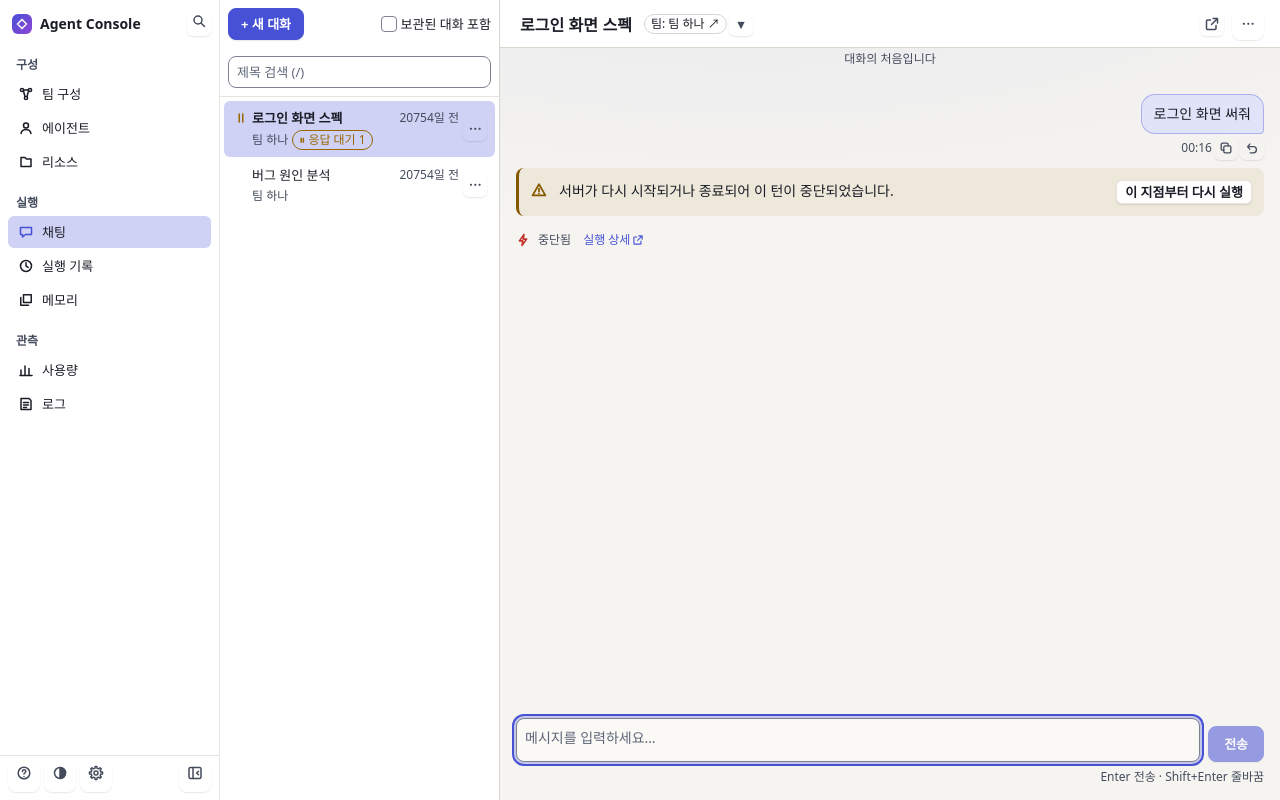
it: 끊긴 턴 이어 가기 › nodes가 비었거나 rerunnable이 없으면 빈 상태
Click the button "이 지점부터 다시 실행".
click(1184, 192)  # box top-left (1116, 180), bottom-right (1252, 204)
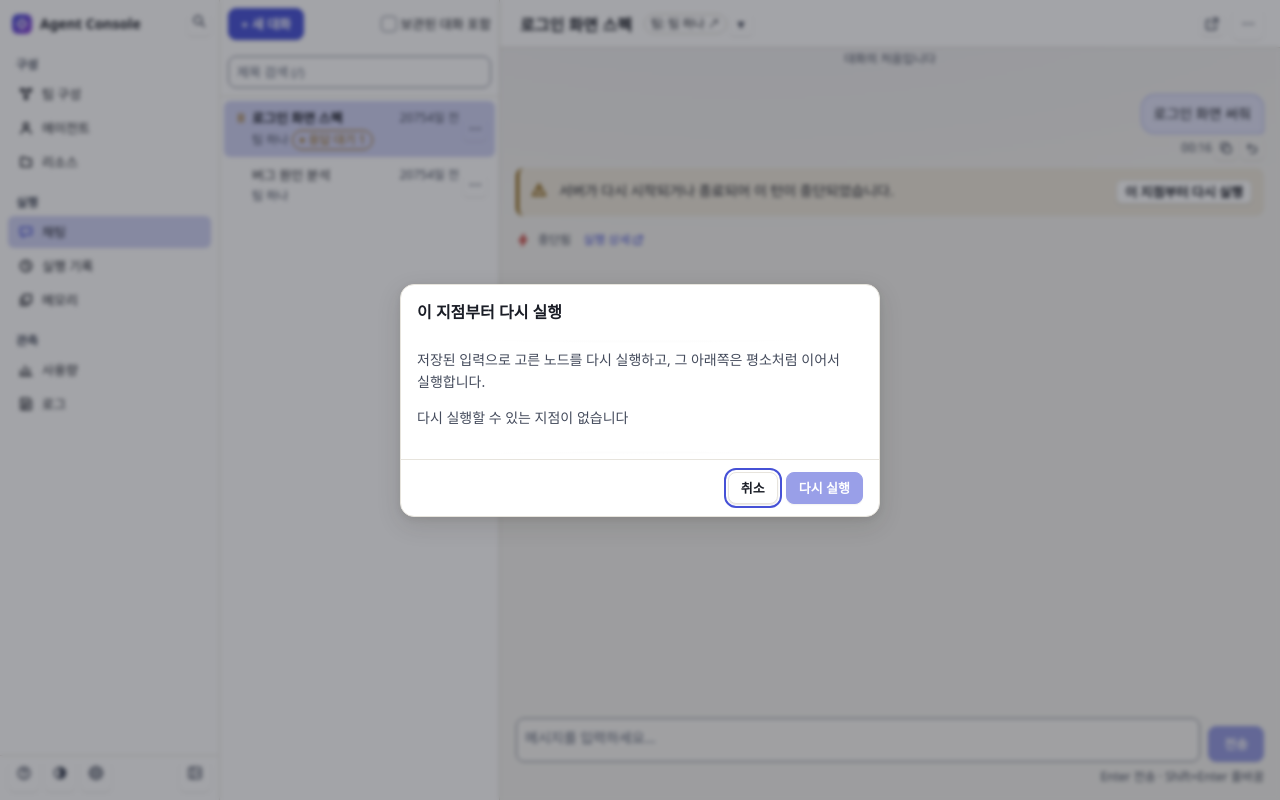
Expected: the text "다시 실행할 수 있는 지점이 없습니다" is shown, top-left (417, 408), bottom-right (628, 426)
